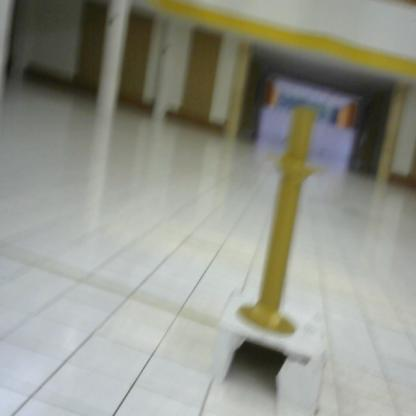pole: (231, 96, 328, 345)
